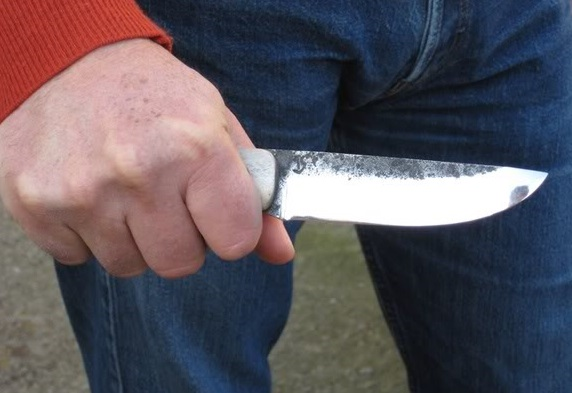knife: (90, 133, 555, 282)
